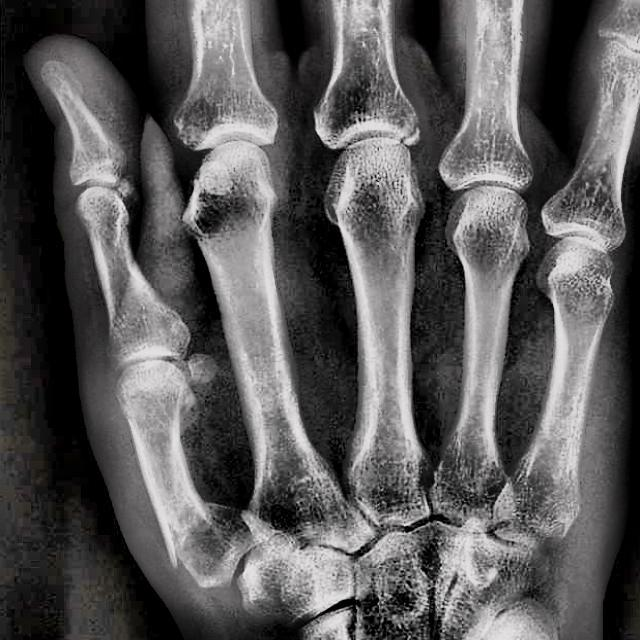fracture: (162, 503, 224, 577), (396, 122, 422, 148)
